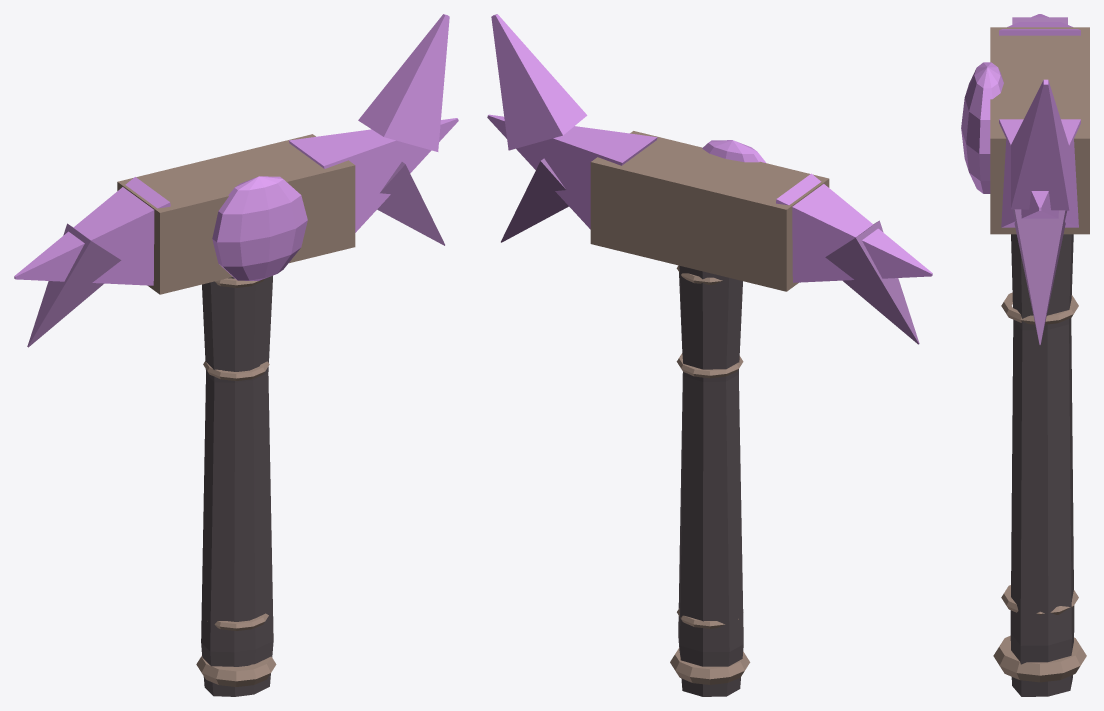
File: BH_PICK_P05_Colheita_Sombria_V01.glb
The picture shows the model from 3 angles, left to right: view 1: azimuth 30°, elevation 25°; view 2: azimuth 150°, elevation 25°; view 3: azimuth 270°, elevation 25°; orthographic projection. The views are drawn at different scales.
Parts seen in each view (by area): view 1: Handle | shaped shaft.001, Head | main crossbar.001, Core | socket gem.001, Head | mining tooth L.001, Head | crescent back.001, Head | mining tooth R.001, Head | hooked spur -1.001, Head | hooked spur 1.001, Handle | pommel.001; view 2: Handle | shaped shaft.001, Head | main crossbar.001, Head | mining tooth L.001, Head | crescent back.001, Head | mining tooth R.001, Head | hooked spur -1.001, Head | hooked spur 1.001, Handle | pommel.001, Core | socket gem.001; view 3: Handle | shaped shaft.001, Head | main crossbar.001, Head | crescent back.001, Head | hooked spur 1.001, Core | socket gem.001, Head | mining tooth R.001, Handle | pommel.001, Head | mining tooth L.001, Handle | binding 3.001, Handle | binding 1.001, Head | hooked spur -1.001.
Boxes of the visible parts, x1,y1,x2,y2 form: Handle | shaped shaft.001: [201, 275, 273, 696]; Head | main crossbar.001: [117, 134, 355, 294]; Core | socket gem.001: [212, 176, 307, 280]; Head | mining tooth L.001: [14, 177, 170, 285]; Head | crescent back.001: [358, 14, 449, 151]; Head | mining tooth R.001: [289, 118, 458, 232]; Head | hooked spur -1.001: [27, 223, 121, 347]; Head | hooked spur 1.001: [377, 162, 444, 245]; Handle | pommel.001: [196, 656, 276, 686]; Handle | shaped shaft.001: [678, 265, 743, 696]; Head | main crossbar.001: [590, 131, 829, 291]; Head | mining tooth L.001: [776, 173, 932, 282]; Head | crescent back.001: [491, 14, 587, 150]; Head | mining tooth R.001: [487, 114, 657, 229]; Head | hooked spur -1.001: [825, 220, 919, 344]; Head | hooked spur 1.001: [501, 158, 568, 242]; Handle | pommel.001: [670, 648, 750, 684]; Core | socket gem.001: [702, 140, 766, 163]; Handle | shaped shaft.001: [1010, 234, 1074, 696]; Head | main crossbar.001: [990, 27, 1089, 234]; Head | crescent back.001: [1011, 79, 1069, 210]; Head | hooked spur 1.001: [1012, 209, 1066, 345]; Core | socket gem.001: [961, 62, 1003, 193]; Head | mining tooth R.001: [999, 119, 1080, 227]; Handle | pommel.001: [993, 635, 1086, 682]; Head | mining tooth L.001: [999, 14, 1080, 35]; Handle | binding 3.001: [1001, 292, 1078, 324]; Handle | binding 1.001: [1001, 585, 1078, 615]; Head | hooked spur -1.001: [1012, 17, 1067, 24].
Bounding box in the file's own units: 2.04 × 2.73 × 0.44.
